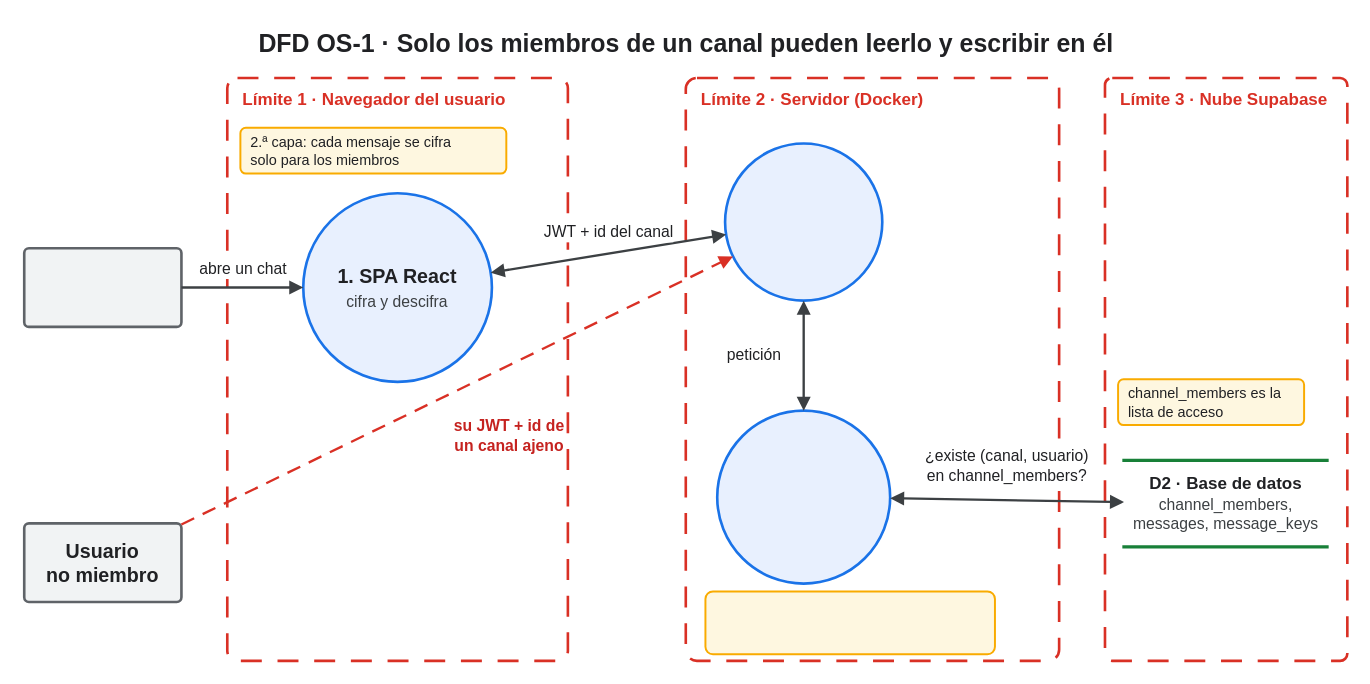
Image size: 1370x684. Some labels were removed from this diagram. Here are the shapes that lost their labels. From the top down, the centre of each, then its label:
(803,221): 2. WAF + nginx · :8080
(102,287): Usuario miembro
(803,496): 3. API Express JWT y membresía
(849,622): requireAuth: identidad = JWT (sub) ensureChannelMember → 403 si no es miembro
